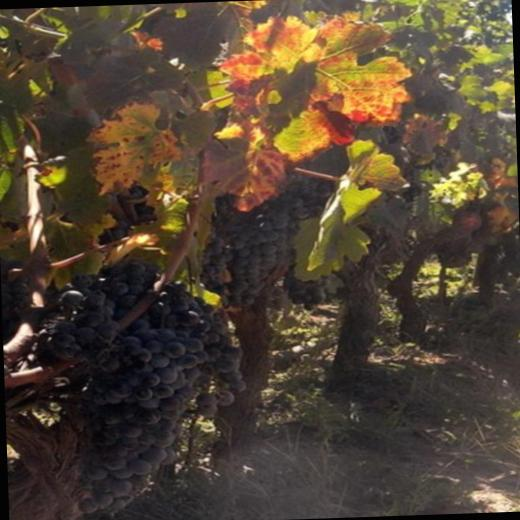Orange: (36, 258, 254, 514), (198, 172, 335, 310), (96, 184, 159, 244)
